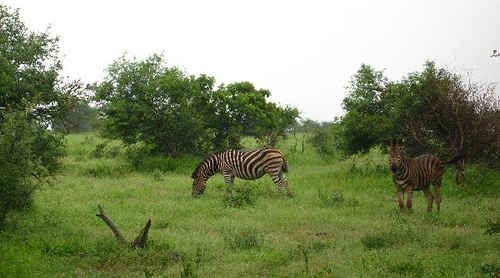zebra: (242, 172, 347, 221), (414, 174, 473, 252)
